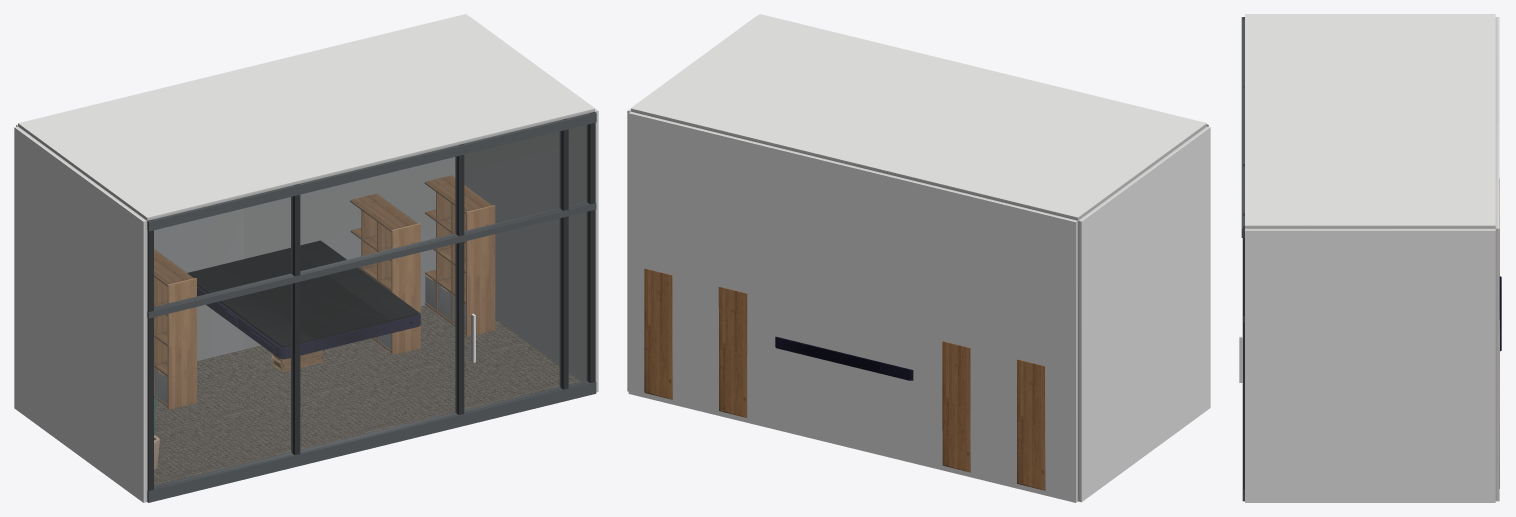
Rendered from shop_phone.glb.
3 renders of one model, left to right at view 1: azimuth 30°, elevation 25°; view 2: azimuth 150°, elevation 25°; view 3: azimuth 270°, elevation 25°, orthographic. The views are drawn at different scales.
Parts seen in each view (by area): view 1: body; view 2: body; view 3: body.
Part boxes in pixels (bbox=[...]): body: bbox=[14, 14, 598, 502]; body: bbox=[627, 14, 1210, 502]; body: bbox=[1239, 14, 1501, 502].
Bounding box in the file's own units: 6.1 × 3.64 × 3.14.
13 materials, 9 textured.
